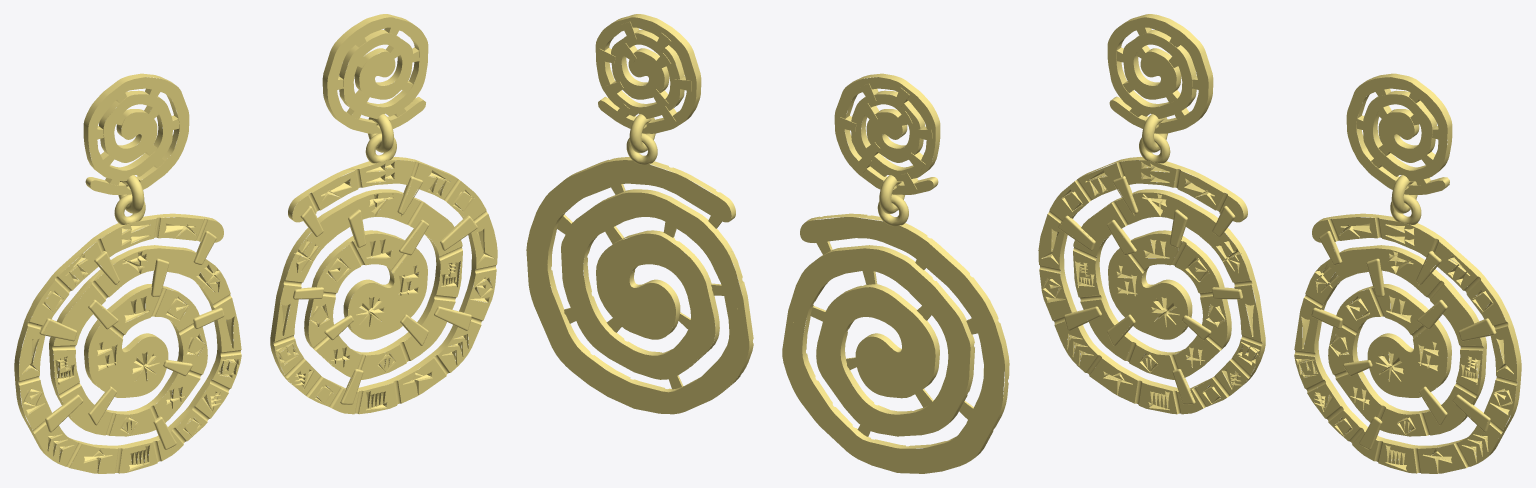
The model's file is hitit-spiral-earrings_compressed.glb.
The picture shows the model from 3 angles, left to right: view 1: azimuth 30°, elevation 25°; view 2: azimuth 150°, elevation 25°; view 3: azimuth 330°, elevation 25°; orthographic projection.
Visible parts, largest first — view 1: Mesh_0.011; view 2: Mesh_0.011; view 3: Mesh_0.011.
Part boxes in pixels (<box>): Mesh_0.011: <box>14,14,497,473</box>; Mesh_0.011: <box>526,14,1009,473</box>; Mesh_0.011: <box>1038,14,1521,473</box>.
Bounding box in the file's own units: 62.5 × 48.95 × 4.7.
